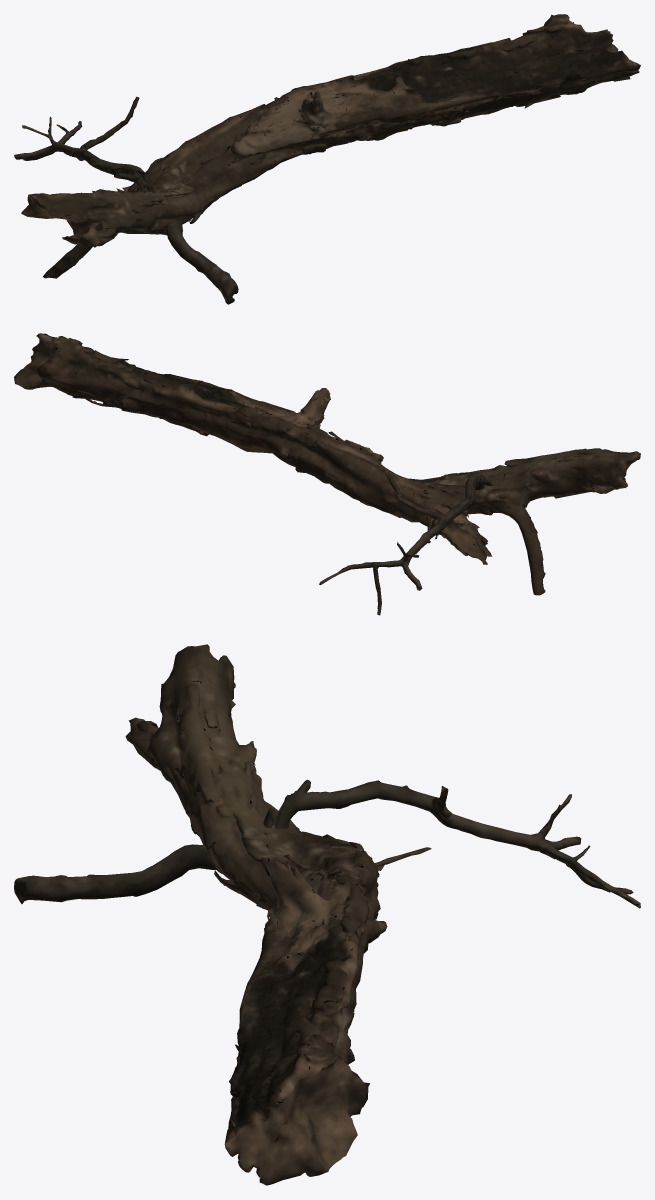
Rendered from RF3_Fallen_Log.fbx.
3 views of the same model, one above another, from view 1: azimuth 30°, elevation 25°; view 2: azimuth 150°, elevation 25°; view 3: azimuth 270°, elevation 25° (orthographic). The views are drawn at different scales.
Parts seen in each view (by area): view 1: RF3_Fallen_Log; view 2: RF3_Fallen_Log; view 3: RF3_Fallen_Log.
Boxes of the visible parts, x1,y1,x2,y2 form: RF3_Fallen_Log: (14,14,640,304); RF3_Fallen_Log: (14,333,640,615); RF3_Fallen_Log: (14,644,640,1185).
Size of the model in its own units: 689 by 148 by 389.
